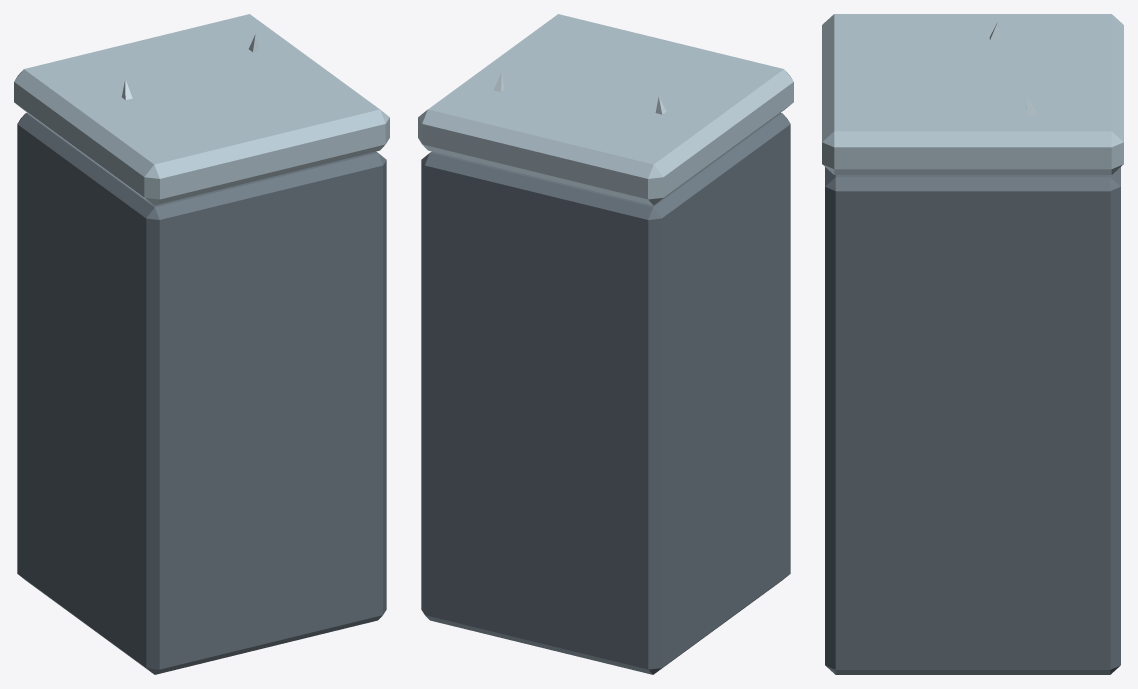
The model's file is column-rime-1b.glb.
3 views of the same model, side by side, from view 1: azimuth 30°, elevation 25°; view 2: azimuth 150°, elevation 25°; view 3: azimuth 270°, elevation 25° (orthographic). The views are drawn at different scales.
Parts seen in each view (by area): view 1: column-rime-1b; view 2: column-rime-1b; view 3: column-rime-1b.
Boxes of the visible parts, <box> form: column-rime-1b: <box>14,14,389,674</box>; column-rime-1b: <box>418,14,793,674</box>; column-rime-1b: <box>822,14,1123,674</box>.
Size of the model in its own units: 1 by 2.06 by 1.
